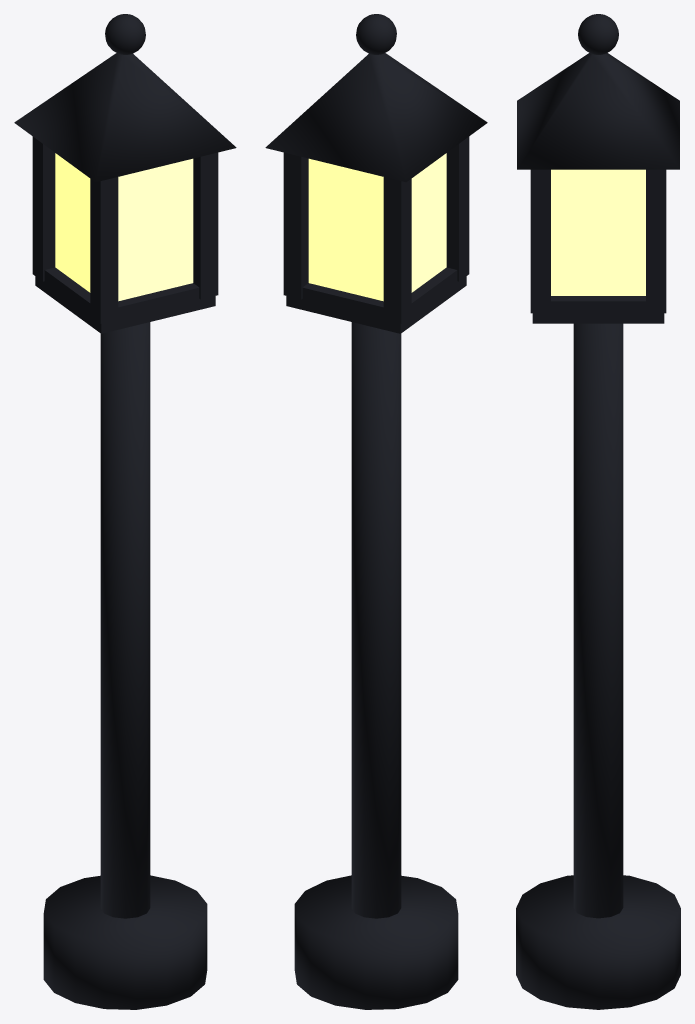
File: lamp.glb
3 views of the same model, side by side, from view 1: azimuth 30°, elevation 25°; view 2: azimuth 150°, elevation 25°; view 3: azimuth 270°, elevation 25° (orthographic).
Visible parts, largest first — view 1: pole, base, cap, glass, lant_base, edge0, edge2, edge1, finial; view 2: pole, base, cap, glass, lant_base, edge1, edge3, edge0, finial; view 3: pole, base, cap, glass, lant_base, edge2, edge3, finial.
Part boxes in pixels (x1,y1,x2,y2): pole: [100, 322, 150, 918]; base: [43, 875, 207, 1009]; cap: [14, 53, 236, 182]; glass: [55, 153, 193, 301]; lant_base: [35, 267, 215, 333]; edge0: [90, 177, 118, 323]; edge2: [193, 152, 218, 299]; edge1: [32, 136, 55, 281]; finial: [105, 14, 145, 54]; pole: [351, 322, 401, 918]; base: [294, 875, 458, 1009]; cap: [265, 53, 487, 182]; glass: [308, 153, 446, 301]; lant_base: [286, 267, 466, 333]; edge1: [383, 177, 411, 323]; edge3: [283, 152, 308, 299]; edge0: [446, 136, 469, 281]; finial: [356, 14, 396, 54]; pole: [573, 323, 623, 918]; base: [516, 875, 680, 1009]; cap: [517, 53, 679, 169]; glass: [551, 169, 645, 295]; lant_base: [532, 296, 664, 323]; edge2: [530, 169, 550, 313]; edge3: [646, 169, 666, 313]; finial: [578, 14, 618, 54].
Bounding box in the file's own units: 0.4 × 2.57 × 0.4.
